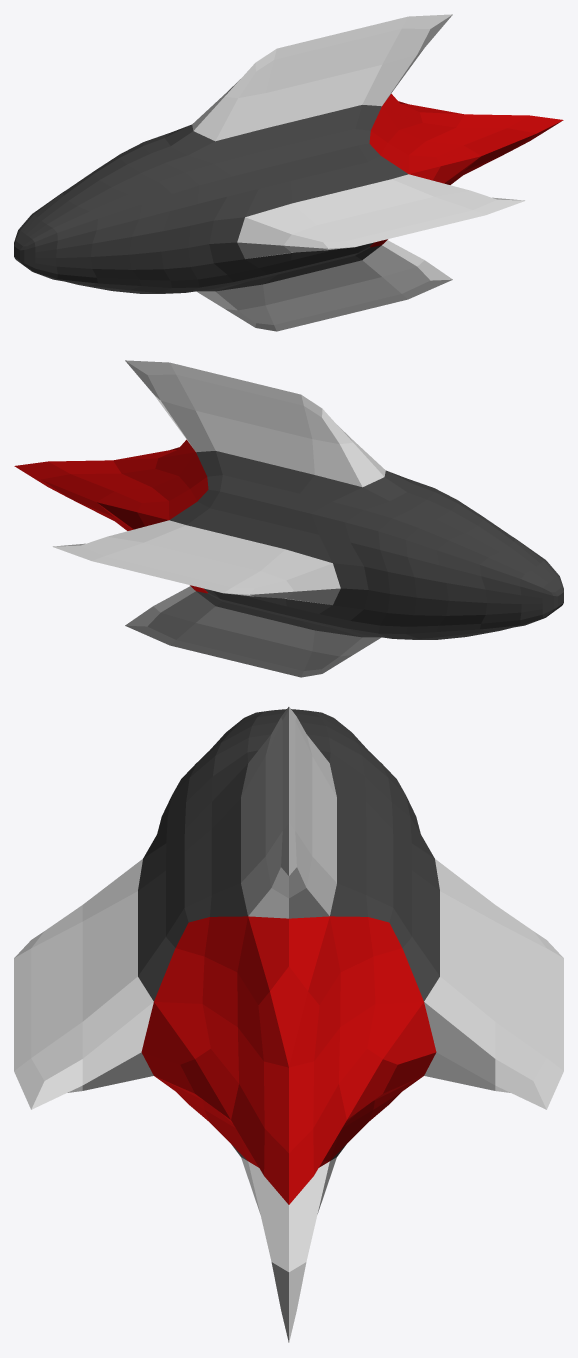
Rendered from torpedo.dae.
3 renders of one model, top to bottom at view 1: azimuth 30°, elevation 25°; view 2: azimuth 150°, elevation 25°; view 3: azimuth 270°, elevation 25°, orthographic. The views are drawn at different scales.
Visible parts, largest first — view 1: Torpedo; view 2: Torpedo; view 3: Torpedo.
Boxes of the visible parts, x1=… form: Torpedo: x1=14, y1=14, x2=563, y2=331; Torpedo: x1=14, y1=360, x2=563, y2=677; Torpedo: x1=14, y1=707, x2=563, y2=1342.
Size of the model in its own units: 8.09 by 4 by 4.
